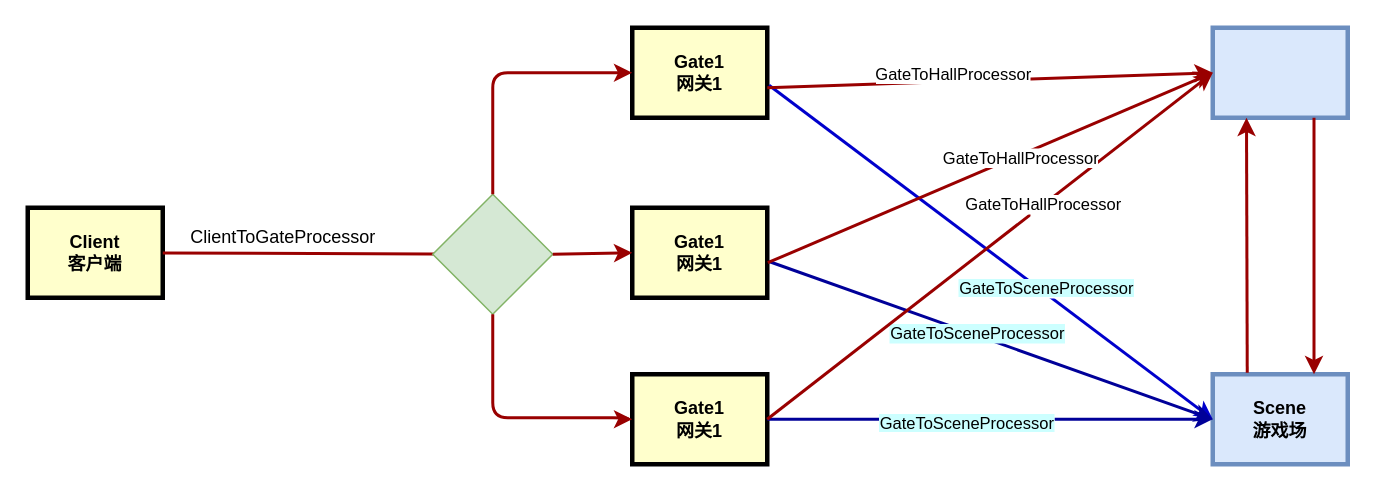
Image size: 1376x492. Some labels were removed from this diagram. The shapes that lost their labels are listed below. From the top down, each one's box as (x1, y1, x2, y2) in pixels, then its label:
(1210, 25, 1349, 119): Hall 大厅
(431, 193, 553, 314): 选择gate
